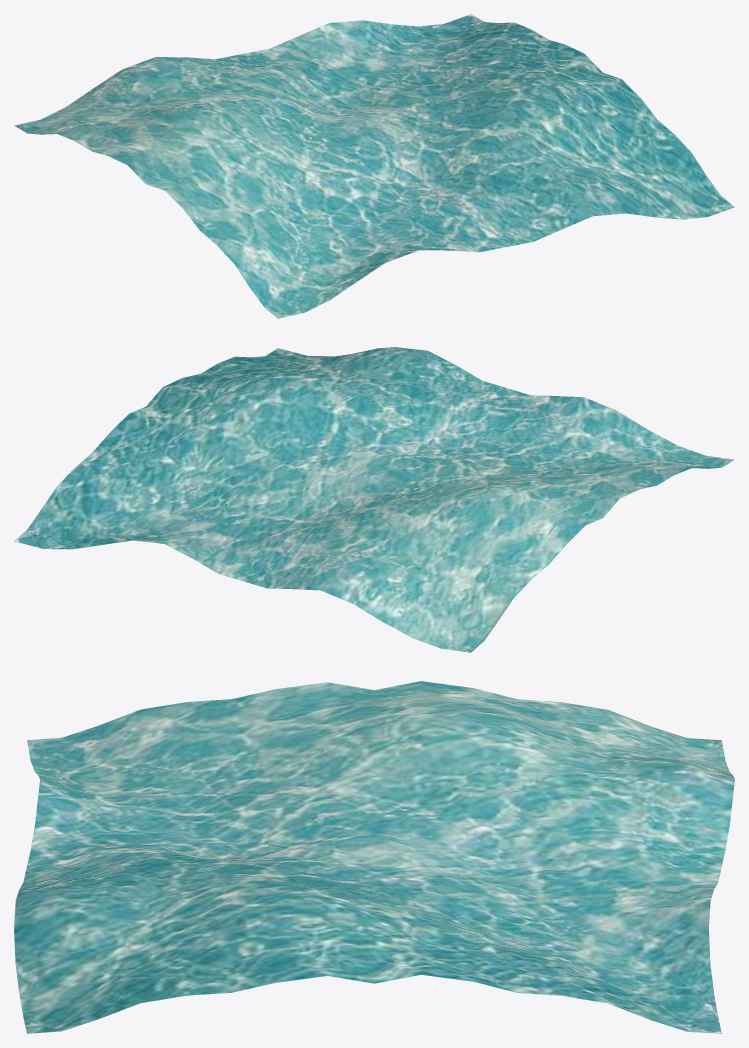
The model's file is water_000063.obj.
3 views of the same model, one above another, from view 1: azimuth 30°, elevation 25°; view 2: azimuth 150°, elevation 25°; view 3: azimuth 270°, elevation 25° (orthographic). The views are drawn at different scales.
Parts seen in each view (by area): view 1: Plan.003_Plan.001; view 2: Plan.003_Plan.001; view 3: Plan.003_Plan.001.
Part boxes in pixels (box(x1,y1,x2,y2)): Plan.003_Plan.001: box(14, 14, 734, 318); Plan.003_Plan.001: box(14, 347, 734, 652); Plan.003_Plan.001: box(14, 681, 734, 1033).
Size of the model in its own units: 60586 by 7716 by 62601.
1 material, 1 textured.
